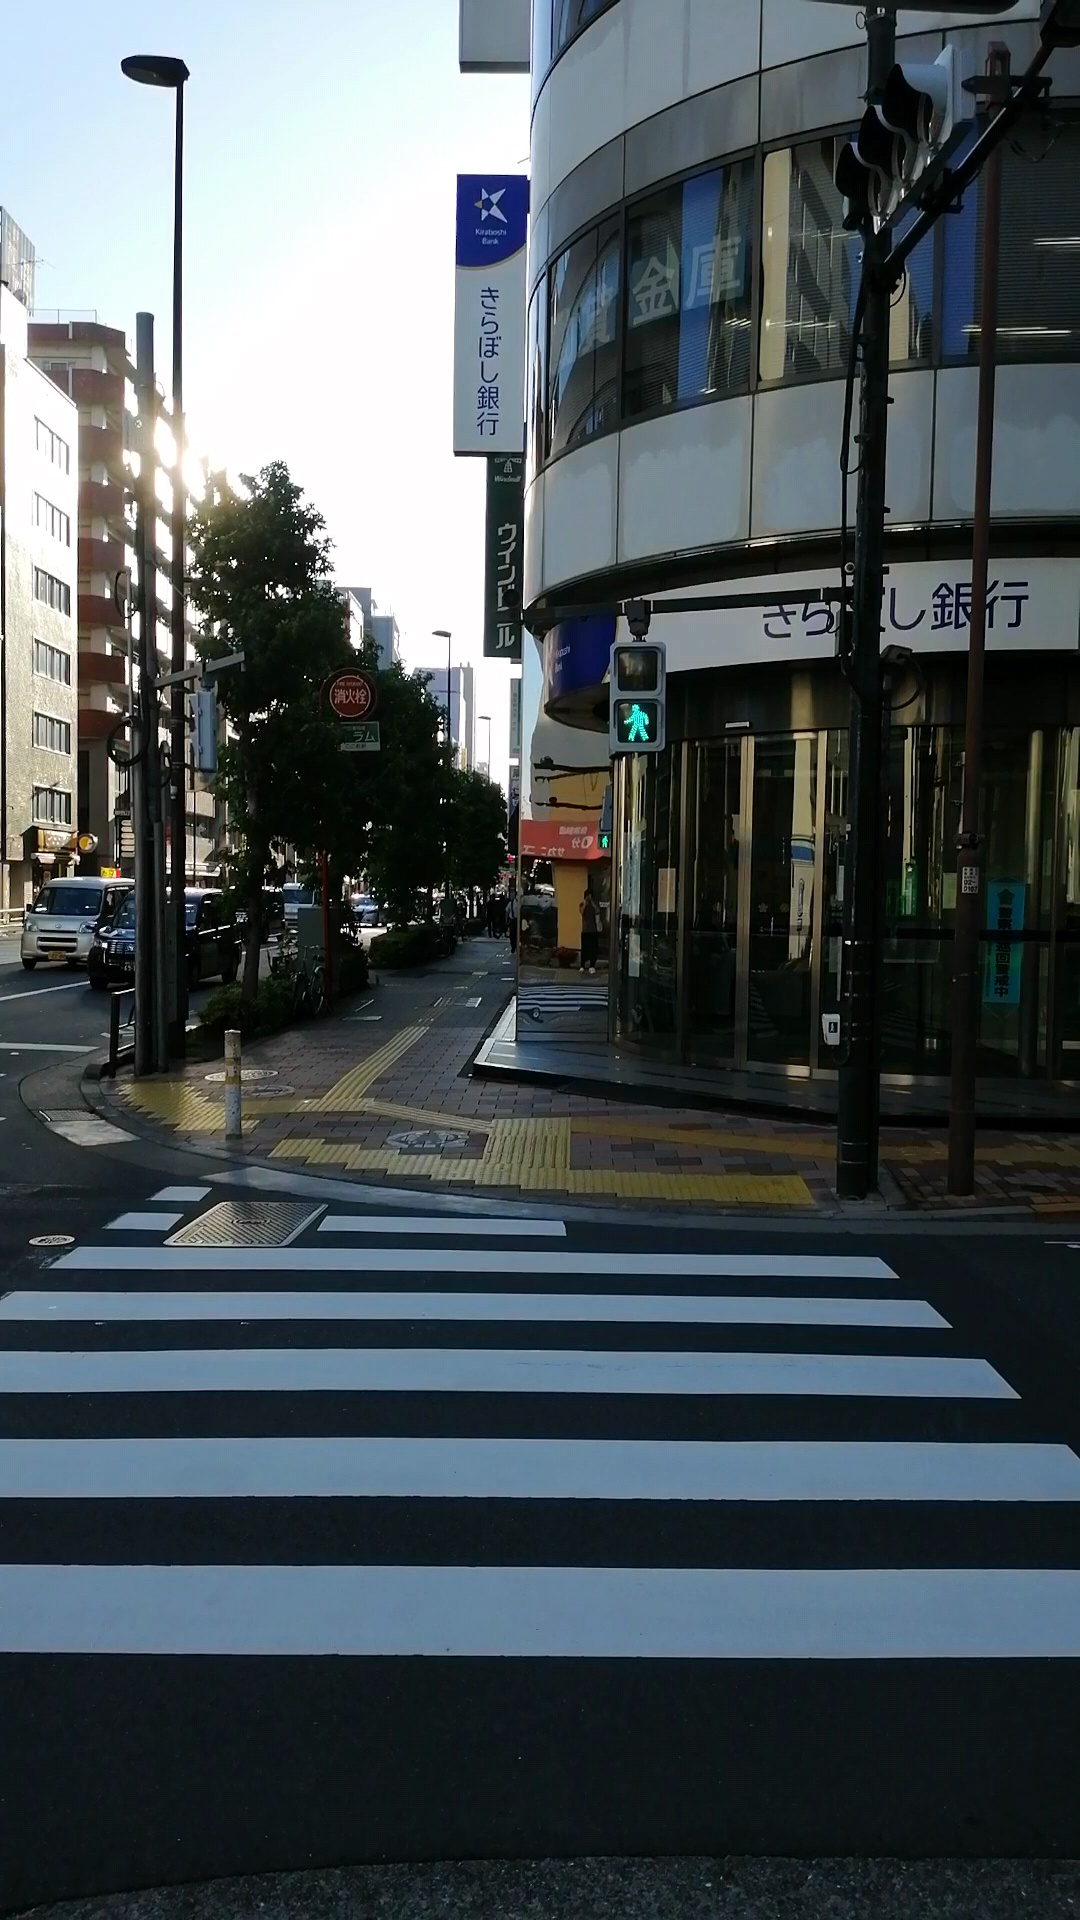green: (607, 640, 667, 754)
